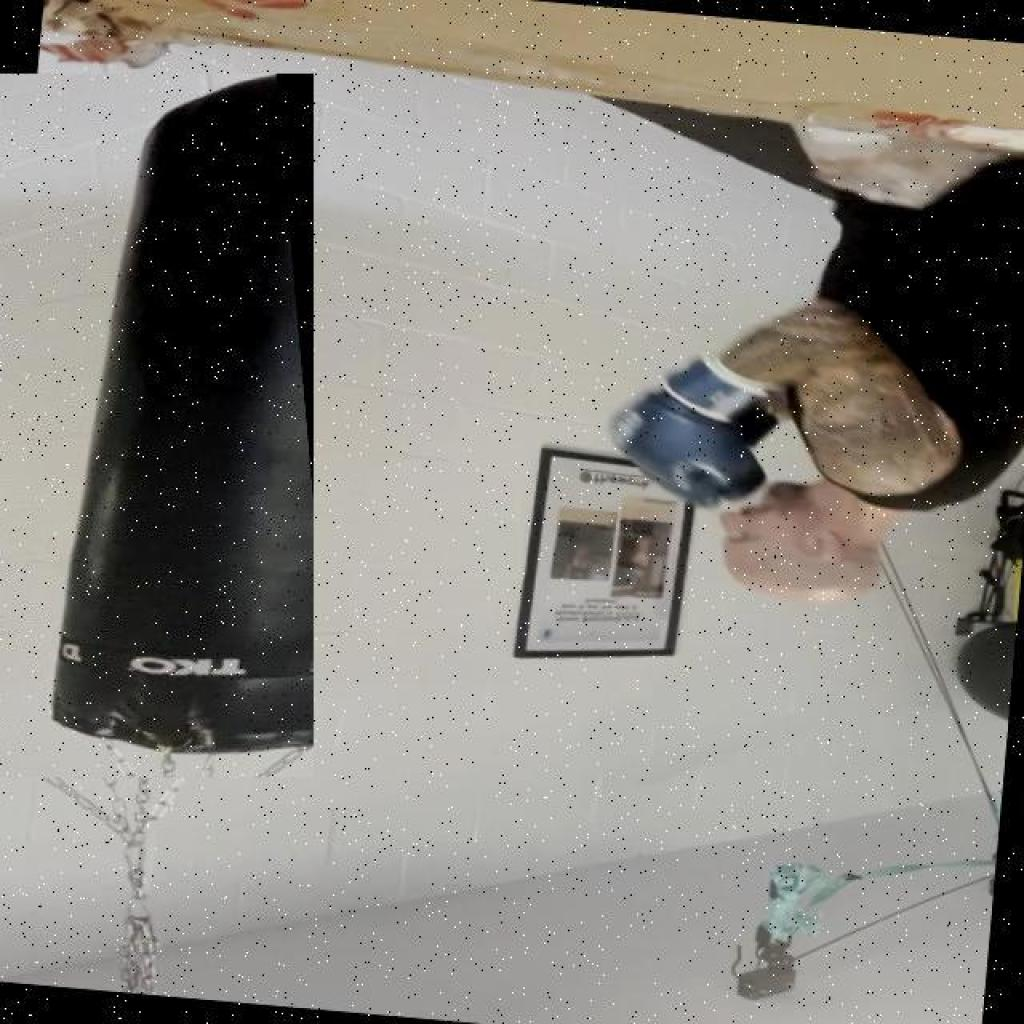bag: (0, 74, 314, 776)
no punch: (573, 283, 1024, 626)
